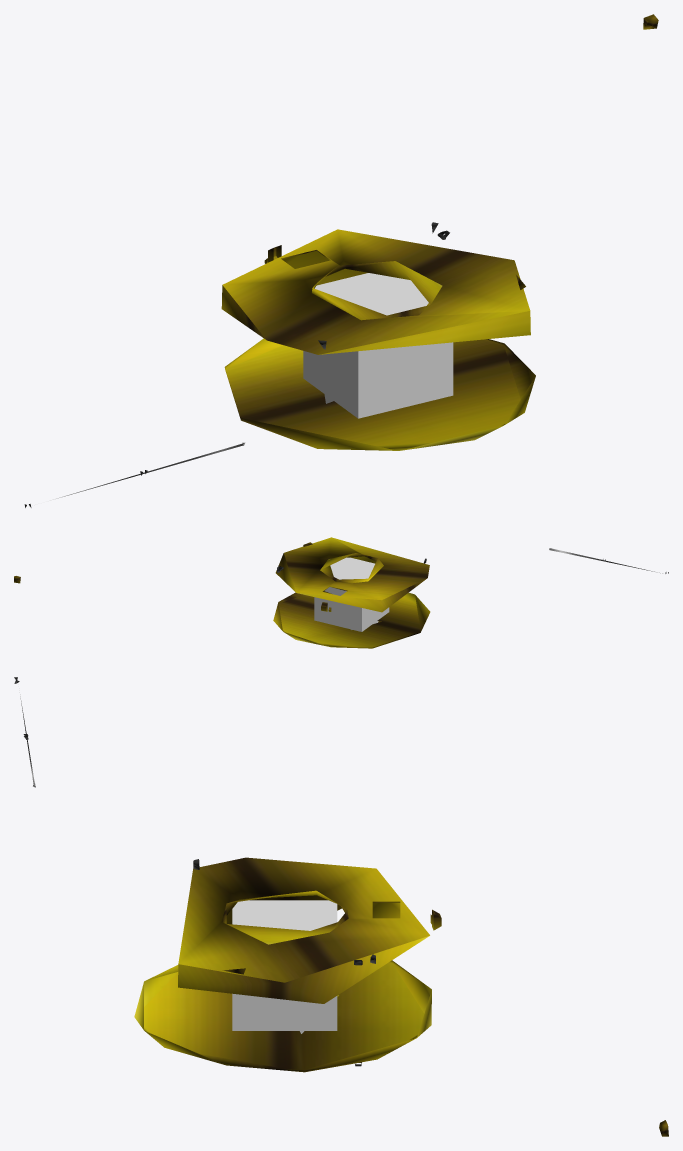
The model's file is cluster-ii.glb.
The picture shows the model from 3 angles, top to bottom: view 1: azimuth 30°, elevation 25°; view 2: azimuth 150°, elevation 25°; view 3: azimuth 270°, elevation 25°; orthographic projection. The views are drawn at different scales.
Visible parts, largest first — view 1: foil_gold, _root; view 2: foil_gold, _root, foil_silver; view 3: foil_gold, _root.
Boxes of the visible parts, x1,y1,x2,y2 form: foil_gold: [221, 14, 658, 450]; _root: [303, 273, 453, 418]; foil_gold: [14, 537, 430, 648]; _root: [314, 557, 389, 631]; foil_silver: [277, 548, 668, 573]; foil_gold: [134, 857, 668, 1136]; _root: [232, 900, 337, 1033].
Size of what is drawn, in the model's own units: 10.2 by 1.28 by 6.23.
2 materials, 2 textured.
